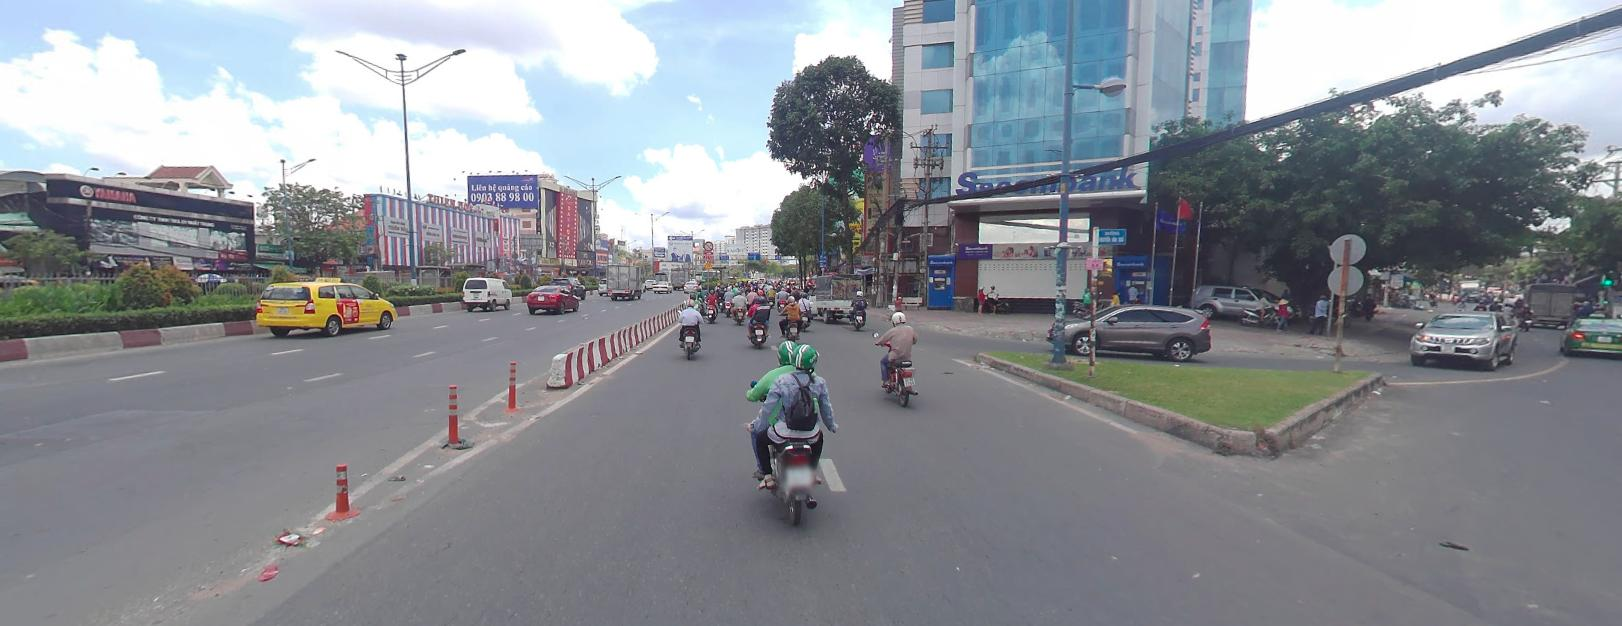Cam con lai: (703, 240, 713, 249), (703, 239, 712, 248)
